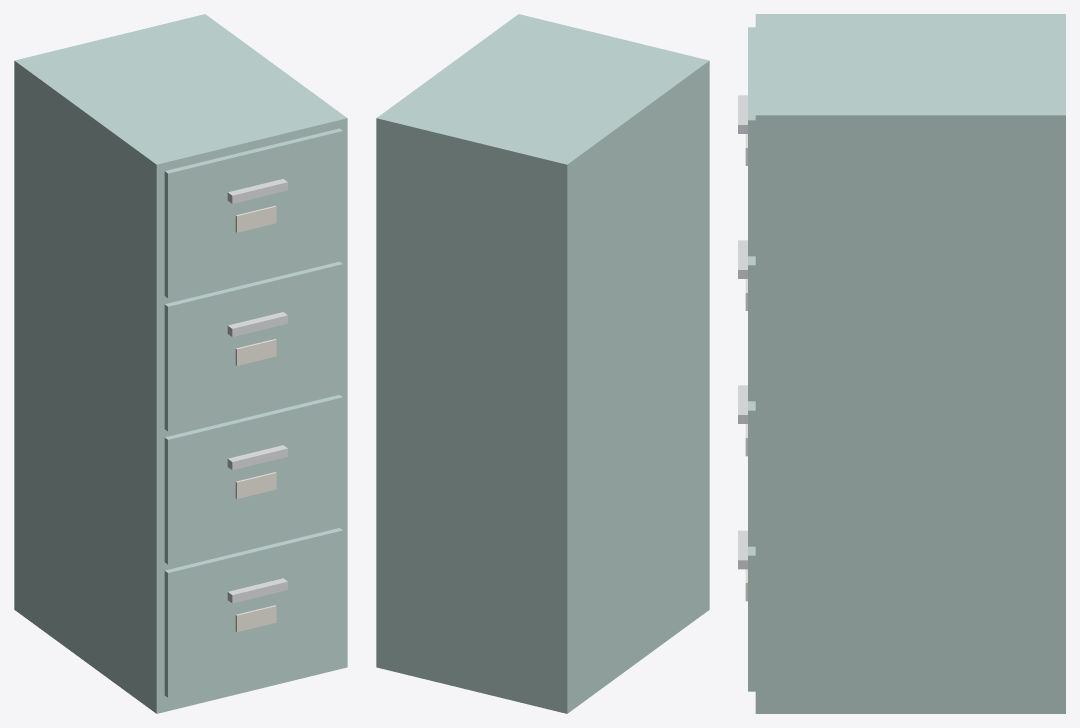
The model's file is file_cabinet.glb.
The picture shows the model from 3 angles, left to right: view 1: azimuth 30°, elevation 25°; view 2: azimuth 150°, elevation 25°; view 3: azimuth 270°, elevation 25°; orthographic projection. The views are drawn at different scales.
Visible parts, largest first — view 1: file_cabinet_cab_t, file_cabinet_chrome, file_cabinet_cream; view 2: file_cabinet_cab_t; view 3: file_cabinet_cab_t, file_cabinet_chrome.
Boxes of the visible parts, box(x1,y1,x2,y2) form: file_cabinet_cab_t: box(14, 14, 347, 713); file_cabinet_chrome: box(227, 179, 287, 603); file_cabinet_cream: box(235, 205, 276, 632); file_cabinet_cab_t: box(376, 14, 709, 713); file_cabinet_cab_t: box(748, 14, 1065, 713); file_cabinet_chrome: box(738, 95, 747, 569).
Bounding box in the file's own units: 0.48 × 1.32 × 0.655.
